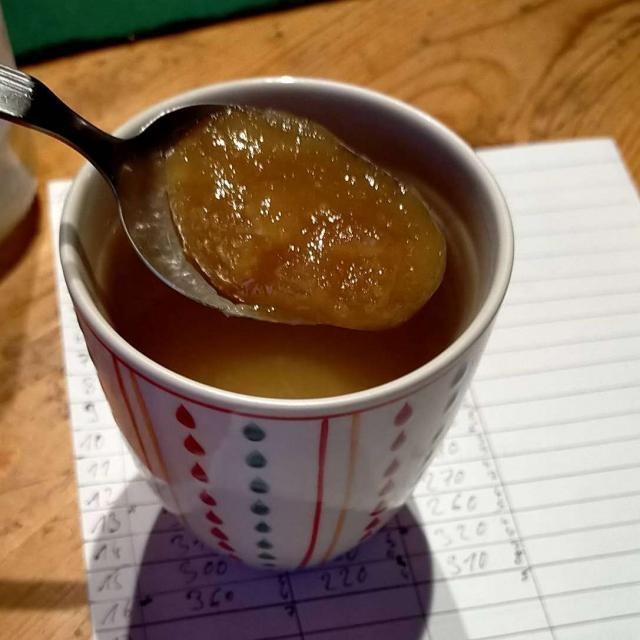honey: (165, 126, 450, 304)
tea: (106, 203, 474, 386)
